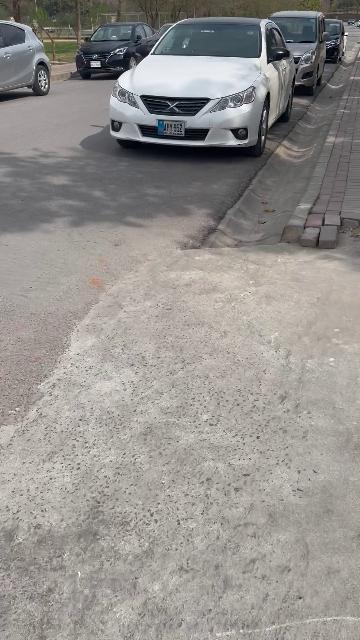plate: (157, 120, 185, 136)
